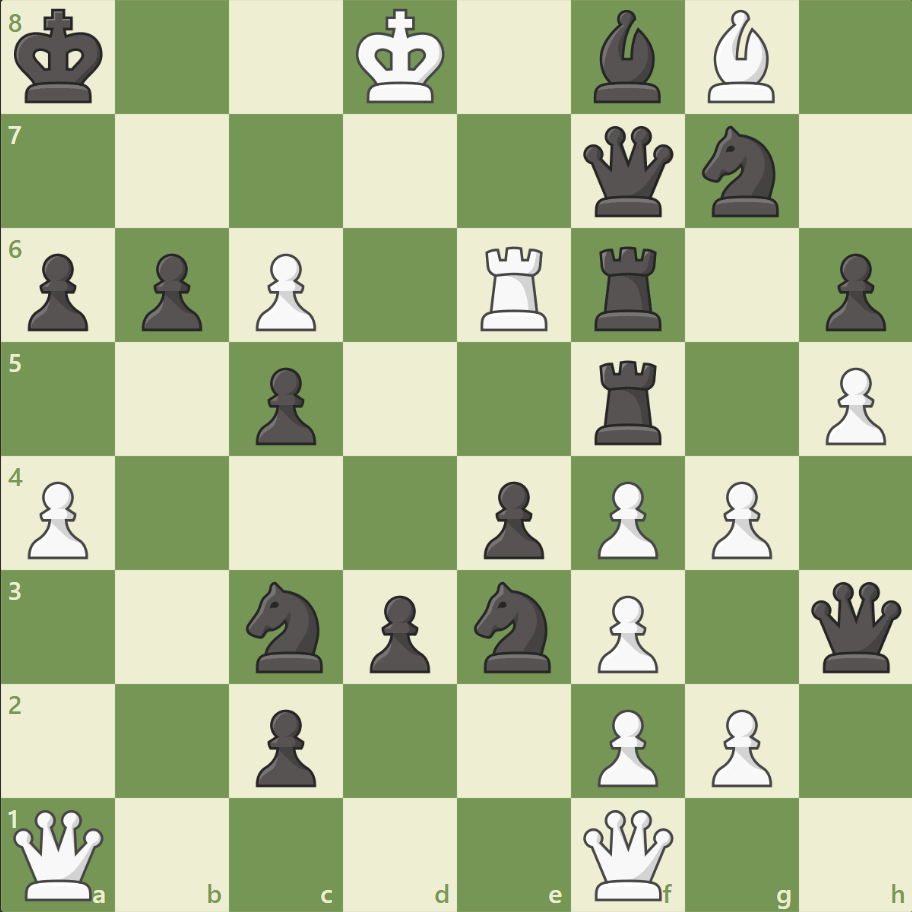B: (698, 6, 782, 109)
K: (351, 4, 451, 112)
P: (247, 246, 322, 337), (20, 473, 95, 564), (701, 473, 776, 564), (701, 700, 776, 791), (815, 359, 889, 450), (588, 473, 662, 564), (588, 586, 662, 677), (588, 700, 662, 791)
Q: (10, 804, 109, 903), (578, 804, 677, 903)
R: (473, 239, 556, 336)
b: (585, 6, 669, 109)
k: (11, 4, 111, 112)
n: (692, 121, 789, 223), (238, 575, 335, 677), (465, 575, 562, 677)
p: (20, 246, 95, 337), (133, 246, 208, 337), (247, 359, 322, 450), (474, 473, 549, 564), (247, 700, 322, 791), (815, 246, 889, 337), (361, 586, 435, 677)
q: (578, 122, 677, 222), (805, 576, 904, 676)
r: (587, 239, 670, 336), (587, 352, 670, 449)
